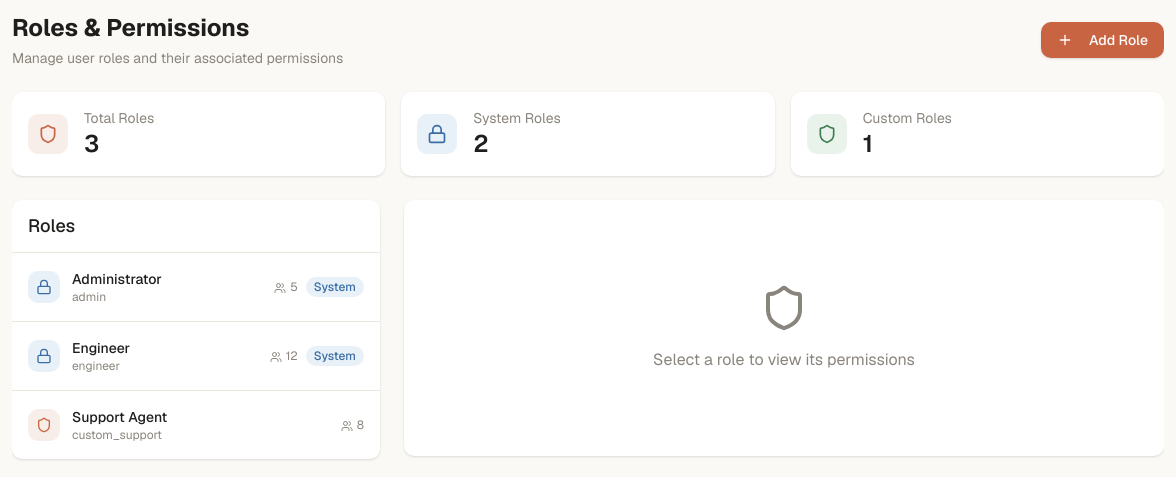
RolesPage › Role Selection › displays loading state while fetching role details
The image size is (1176, 477).
Click the text "Administrator".
click(117, 279)  # box [72,269,162,289]
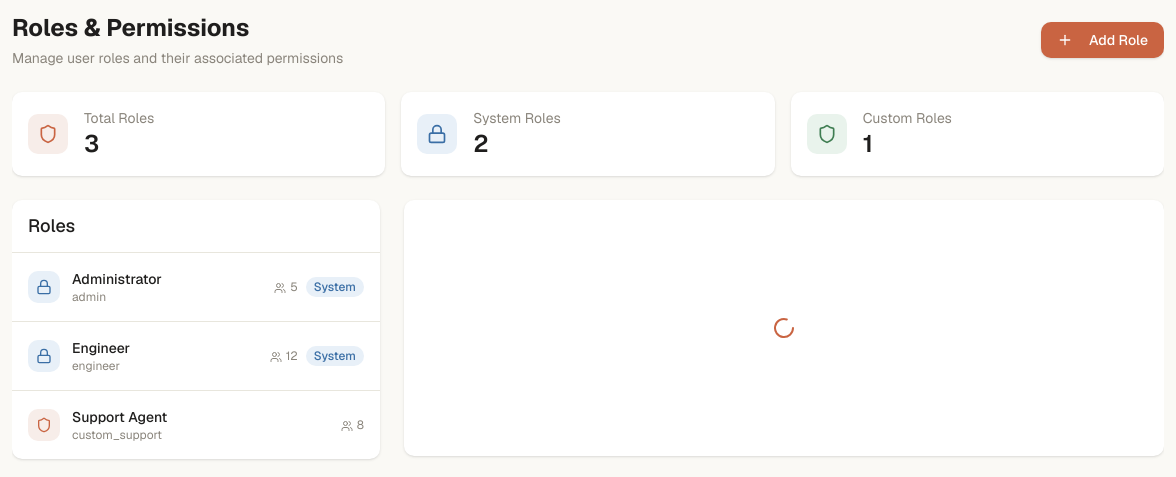
Expected: the icon with class "animate-spin" is shown, [772,316,796,340]
